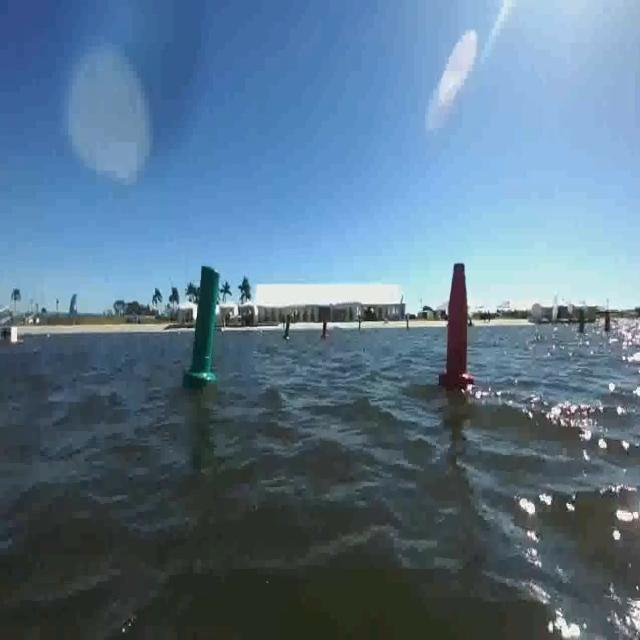green-column-buoy: (185, 262, 221, 385)
red-column-buoy: (438, 257, 474, 395)
